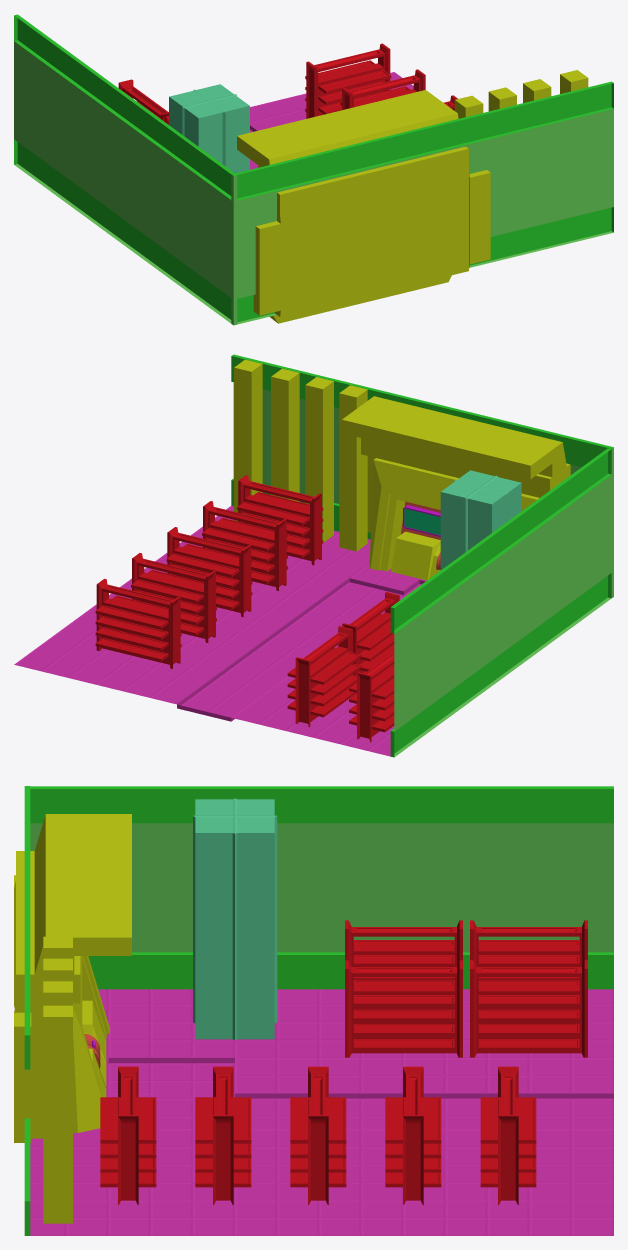
File: Mall 3.fbx
3 views of the same model, one above another, from view 1: azimuth 30°, elevation 25°; view 2: azimuth 150°, elevation 25°; view 3: azimuth 270°, elevation 25° (orthographic). The views are drawn at different scales.
Visible parts, largest first — view 1: Cube.007, Plane.002, Plane.001, Plane.004, Plane.003, Cube.064, Plane.005, Plane, Cube.001; view 2: Cube.007, Plane, Plane.002, Cube.064, Plane.003, Cube.001, Plane.005, Plane.004, Plane.001, Cube.002, Cube.009, Cube.003; view 3: Plane, Plane.002, Cube.007, Cube.064, Plane.003, Plane.005, Cube.001, Cube.002, Plane.004, Cube.009.
Part boxes in pixels (x1=…): Cube.007: x1=237, y1=70, x2=588, y2=323; Plane.002: x1=14, y1=41, x2=237, y2=325; Plane.001: x1=231, y1=109, x2=613, y2=325; Plane.004: x1=232, y1=81, x2=613, y2=322; Plane.003: x1=14, y1=14, x2=234, y2=319; Cube.064: x1=305, y1=43, x2=457, y2=118; Plane.005: x1=169, y1=84, x2=249, y2=173; Plane: x1=250, y1=72, x2=413, y2=169; Cube.001: x1=118, y1=79, x2=168, y2=121; Cube.007: x1=234, y1=359, x2=570, y2=571; Plane: x1=14, y1=505, x2=426, y2=756; Plane.002: x1=394, y1=473, x2=613, y2=757; Cube.064: x1=95, y1=475, x2=323, y2=668; Plane.003: x1=390, y1=448, x2=611, y2=757; Cube.001: x1=287, y1=626, x2=394, y2=742; Plane.005: x1=440, y1=470, x2=521, y2=569; Plane.004: x1=231, y1=354, x2=613, y2=598; Plane.001: x1=233, y1=382, x2=613, y2=597; Cube.002: x1=342, y1=592, x2=399, y2=684; Cube.009: x1=391, y1=531, x2=440, y2=580; Cube.003: x1=404, y1=508, x2=440, y2=535; Plane: x1=30, y1=989, x2=613, y2=1235; Plane.002: x1=30, y1=823, x2=613, y2=952; Cube.007: x1=14, y1=814, x2=131, y2=1223; Cube.064: x1=100, y1=1066, x2=536, y2=1204; Plane.003: x1=30, y1=786, x2=613, y2=989; Plane.005: x1=193, y1=798, x2=277, y2=1039; Cube.001: x1=470, y1=920, x2=587, y2=1057; Cube.002: x1=345, y1=920, x2=462, y2=1057; Plane.004: x1=24, y1=786, x2=30, y2=1235; Cube.009: x1=82, y1=1000, x2=106, y2=1097.
Bounding box in the file's own units: 1789 × 768 × 1821.
